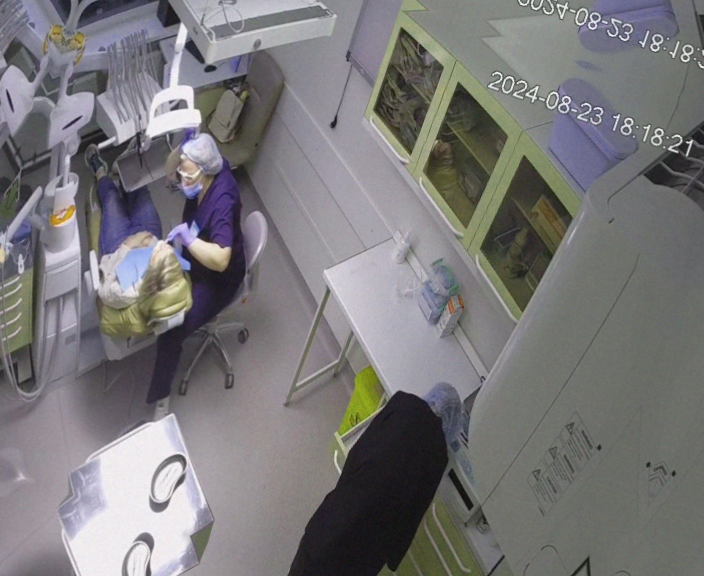Patient: (41, 162, 227, 368)
